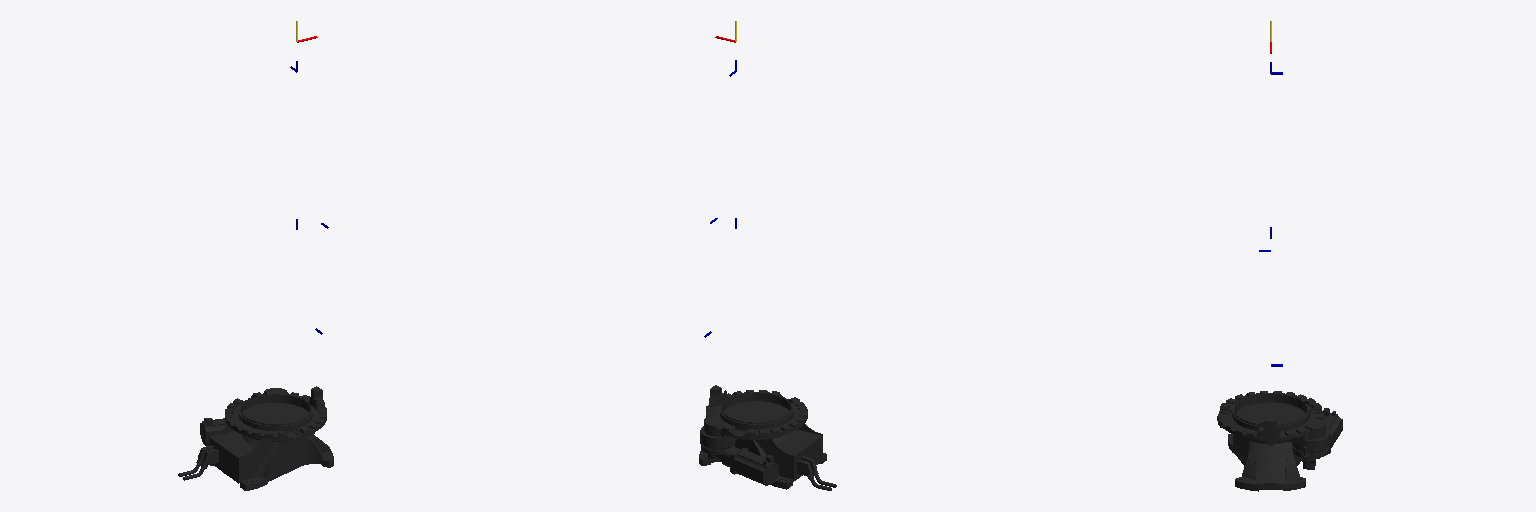
The robot description file, URDF, robot "example_robot":
<?xml version="1.0" ?>
<robot name="example_robot">

	<!-- * * * Link Definitions * * * -->
	
	<link name="link0_passive">
		<visual>
			<origin xyz="0 0 0" rpy="0 0 0"/>
			<material name="gray1">
				<color rgba="0.2 0.2 0.2 1"/>
			</material>
            <geometry>
                <mesh filename="mesh/base_m.stl"/>
            </geometry>
		</visual>
	</link>
	
	<link name="link0_x_axis">
		<visual>
			<origin xyz="0 0 0" rpy="0 0 0"/>
			<material name="red">
				<color rgba="1 0 0 1"/>
			</material>
			<geometry>
				<cylinder length="0.0" radius="0.0"/>
			</geometry>
		</visual>
	</link>

	<link name="link1"/>
	<link name="link1_x_axis">
		<visual>
			<origin xyz="0 0 0" rpy="0 0 0"/>
			<material name="gray2">
				<color rgba="0.4 0.4 0.4 1"/>
			</material>
            <geometry>
                <mesh filename="mesh/q1_m.stl"/>
            </geometry>
		</visual>
	</link>

	<link name="link1_passive">
		<visual>
			<origin xyz="0 0 0.05" rpy="0 0 0"/>
			<material name="blue">
				<color rgba="0.0 0.0 0.8 1"/>
			</material>
			<geometry>
				<cylinder length="0.1" radius="0.01"/>
			</geometry>
		</visual>
	</link>

	<link name="link2"/>
	<link name="link2_x_axis">
		<visual>
			<origin xyz="0 0 0" rpy="0 0 0"/>
			<material name="gray2"/>
            <geometry>
                <mesh filename="mesh/q2_m.stl"/>
            </geometry>
		</visual>
	</link>

	<link name="link2_passive">
		<visual>
			<origin xyz="0 0 0.05" rpy="0 0 0"/>
			<material name="blue"/>
			<geometry>
				<cylinder length="0.1" radius="0.01"/>
			</geometry>
		</visual>
	</link>

	<link name="link3"/>
	<link name="link3_x_axis">
		<visual>
			<origin xyz="0 0 0" rpy="0 0 0"/>
			<material name="gray2"/>
            <geometry>
                <mesh filename="mesh/q3_m.stl"/>
            </geometry>
		</visual>
	</link>

	<link name="link3_passive">
		<visual>
			<origin xyz="0 0 0.05" rpy="0 0 0"/>
			<material name="blue"/>
			<geometry>
				<cylinder length="0.1" radius="0.01"/>
			</geometry>
		</visual>
	</link>
	
	<link name="link4"/>
	<link name="link4_x_axis">
		<visual>
			<origin xyz="0 0 0" rpy="0 0 0"/>
			<material name="gray2"/>
            <geometry>
                <mesh filename="mesh/q4_m.stl"/>
            </geometry>
		</visual>
	</link>
	
	<link name="link4_passive">
		<visual>
			<origin xyz="0 0 0.05" rpy="0 0 0"/>
			<material name="blue"/>
			<geometry>
				<cylinder length="0.1" radius="0.01"/>
			</geometry>
		</visual>
	</link>

	<link name="link5"/>
	<link name="link5_x_axis">
		<visual>
			<origin xyz="0 0 0" rpy="0 0 0"/>
			<material name="gray2"/>
            <geometry>
                <mesh filename="mesh/q5_m.stl"/>
            </geometry>
		</visual>
	</link>
	
	<link name="link5_passive">
		<visual>
			<origin xyz="0 0 0.05" rpy="0 0 0"/>
			<material name="blue"/>
			<geometry>
				<cylinder length="0.1" radius="0.01"/>
			</geometry>
		</visual>
	</link>

	<link name="link6"/>
	<link name="link6_x_axis">
		<visual>
			<origin xyz="0 0 0" rpy="0 0 0"/>
			<material name="gray1"/>
            <geometry>
                <mesh filename="mesh/q6_m.stl"/>
            </geometry>
		</visual>
	</link>

	<link name="link6_passive">
		<visual>
			<origin xyz="0 0 0.1" rpy="0 0 0"/>
	     	<material name="green"/>
			<geometry>
				<cylinder length="0.2" radius="0.01"/>
			</geometry>
		</visual>
	</link>
	<link name="link6_y_axis">
		<visual>
			<origin xyz="0 0 0.1" rpy="0 0 0"/>
	     	<material name="red"/>
			<geometry>
				<cylinder length="0.2" radius="0.01"/>
			</geometry>
		</visual>
	</link>
	
	<joint name="q1" type="revolute">
		<parent link="link0_passive"/>
		<child link="link1"/>
		<origin xyz="0 0 1.14" rpy="0 0 0"/>
		<axis xyz="0 0 1"/>
		<limit effort="204" lower="-3.14159265358" upper="3.14159265358" velocity="1.91986217719"/>
	</joint>
	<joint name="q2" type="revolute">
		<parent link="link1_passive"/>
		<child link="link2"/>
		<origin xyz="0 0 0" rpy="0 0 -1.5707963267948966"/>
		<axis xyz="0 0 1"/>
		<limit effort="204" lower="-1.308996938991" upper="1.308996938991" velocity="1.91986217719"/>
	</joint>
	<joint name="q3" type="revolute">
		<parent link="link2_passive"/>
		<child link="link3"/>
		<origin xyz="0 0 0" rpy="0 0 -1.5707963267948966"/>
		<axis xyz="0 0 1"/>
		<limit effort="204" lower="-3.83972435" upper="0" velocity="1.91986217719"/>
	</joint>
	<joint name="q4" type="revolute">
		<parent link="link3_passive"/>
		<child link="link4"/>
		<origin xyz="0 0 1.51" rpy="0 0 0"/>
		<axis xyz="0 0 1"/>
		<limit effort="204" lower="-3.14159265358" upper="3.14159265358" velocity="1.91986217719"/>
	</joint>
	<joint name="q5" type="revolute">
		<parent link="link4_passive"/>
		<child link="link5"/>
		<origin xyz="0 0 0" rpy="0 0 0"/>
		<axis xyz="0 0 1"/>
		<limit effort="204" lower="-2.1816615645" upper="2.1816615645" velocity="1.91986217719"/>
	</joint>	
	<joint name="q6" type="revolute">
		<parent link="link5_passive"/>
		<child link="link6"/>
		<origin xyz="0 0 0.282" rpy="0 0 0"/>
		<axis xyz="0 0 1"/>
		<limit effort="204" lower="-3.14159265358" upper="3.14159265358" velocity="1.91986217719"/>
	</joint>	
	<joint name="q0_x" type="fixed">
		<parent link="link0_passive"/>
		<child link="link0_x_axis"/>
		<origin xyz="0 0 0" rpy="0 1.571 0"/>
	</joint>

	<joint name="q1_passive" type="fixed">
		<parent link="link1"/>
		<child link="link1_passive"/>
		<origin xyz="0.46 0 0" rpy="-1.5707963267948966 0 0"/>
	</joint>
	<joint name="q1_x" type="fixed">
		<parent link="link1_passive"/>
		<child link="link1_x_axis"/>
		<origin xyz="0 0 0" rpy="0 1.571 0"/>
	</joint>

	<joint name="q2_passive" type="fixed">
		<parent link="link2"/>
		<child link="link2_passive"/>
		<origin xyz="1.05 0 0" rpy="3.14159265358 0 0"/>
	</joint>
	<joint name="q2_x" type="fixed">
		<parent link="link2_passive"/>
		<child link="link2_x_axis"/>
		<origin xyz="0 0 0" rpy="0 1.571 0"/>
	</joint>

	<joint name="q3_passive" type="fixed">
		<parent link="link3"/>
		<child link="link3_passive"/>
		<origin xyz="-0.25 0 0" rpy="-1.5707963267948966 0 0"/>
	</joint>
	<joint name="q3_x" type="fixed">
		<parent link="link3_passive"/>
		<child link="link3_x_axis"/>
		<origin xyz="0 0 0" rpy="0 1.571 0"/>
	</joint>

	<joint name="q4_passive" type="fixed">
		<parent link="link4"/>
		<child link="link4_passive"/>
		<origin xyz="0 0 0" rpy="-1.5707963267948966 0 0"/>
	</joint>
	<joint name="q4_x" type="fixed">
		<parent link="link4_passive"/>
		<child link="link4_x_axis"/>
		<origin xyz="0 0 0" rpy="0 1.571 0"/>
	</joint>

	<joint name="q5_passive" type="fixed">
		<parent link="link5"/>
		<child link="link5_passive"/>
		<origin xyz="0 0 0" rpy="1.5707963267948966 0 0"/>
	</joint>
	<joint name="q5_x" type="fixed">
		<parent link="link5_passive"/>
		<child link="link5_x_axis"/>
		<origin xyz="0 0 0" rpy="0 1.571 0"/>
	</joint>
	<joint name="q6_passive" type="fixed">
		<parent link="link6"/>
		<child link="link6_passive"/>
		<origin xyz="0 0 0" rpy="0 0 0"/>
	</joint>
	<joint name="q6_x" type="fixed">
		<parent link="link6_passive"/>
		<child link="link6_x_axis"/>
		<origin xyz="0 0 0" rpy="0 1.571 0"/>
	</joint>
	<joint name="q6_y" type="fixed">
		<parent link="link6_passive"/>
		<child link="link6_y_axis"/>
		<origin xyz="0 0 0" rpy="0 1.571 0"/>
	</joint>
</robot>

--- What the picture shows (computed from the rendered views, not written in the file) ---
Views: 3 orthographic renders of the robot side by side, from view 1: azimuth 30°, elevation 25°; view 2: azimuth 150°, elevation 25°; view 3: azimuth 270°, elevation 25°.
Robot: example_robot — 21 links, 20 joints (6 revolute, 14 fixed); root link link0_passive; default pose: all joints at 0.
Links seen in each view (by area): view 1: link0_passive; view 2: link0_passive; view 3: link0_passive.
Boxes of the visible links, box(x1,y1,x2,y2) form: link0_passive: box(178, 386, 333, 490); link0_passive: box(699, 385, 836, 490); link0_passive: box(1217, 391, 1342, 491).
Size in the robot's own frame: 1.35 by 1.04 by 4.18 metres.
1 mesh visuals loaded from 7 distinct referenced files (1 binary STL); not drawn: 6 (reference not matched to a file when rendering).
